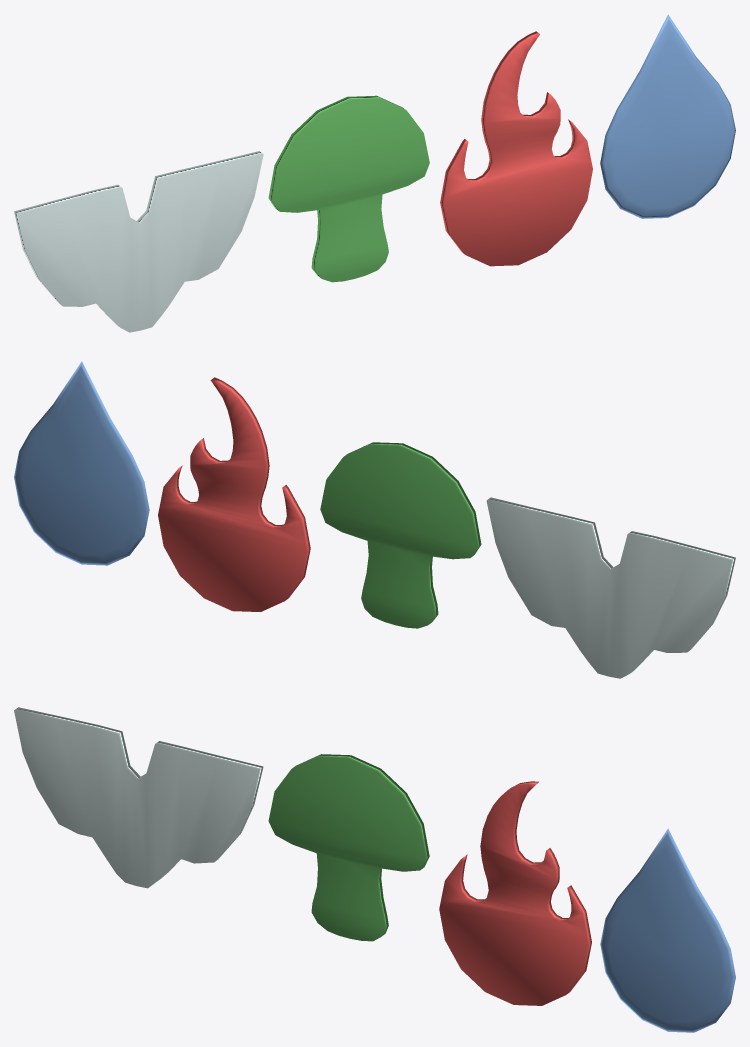
Rendered from Emblemas Revrova.fbx.
3 views of the same model, one above another, from view 1: azimuth 30°, elevation 25°; view 2: azimuth 150°, elevation 25°; view 3: azimuth 330°, elevation 25° (orthographic).
Parts seen in each view (by area): view 1: AirBadge, FireBadge, EarthBadge, WaterBadge; view 2: AirBadge, FireBadge, EarthBadge, WaterBadge; view 3: AirBadge, FireBadge, EarthBadge, WaterBadge.
Part boxes in pixels (left/top/right/bottom): AirBadge: left=14, top=151, right=263, bottom=332; FireBadge: left=440, top=31, right=592, bottom=266; EarthBadge: left=268, top=95, right=429, bottom=282; WaterBadge: left=600, top=14, right=735, bottom=218; AirBadge: left=486, top=497, right=735, bottom=678; FireBadge: left=158, top=377, right=310, bottom=611; EarthBadge: left=320, top=442, right=481, bottom=628; WaterBadge: left=14, top=361, right=149, bottom=565; AirBadge: left=14, top=707, right=263, bottom=888; FireBadge: left=439, top=781, right=591, bottom=1005; EarthBadge: left=268, top=754, right=429, bottom=941; WaterBadge: left=600, top=828, right=735, bottom=1032.
Bounding box in the file's own units: 8438 × 2528 × 97.13.
